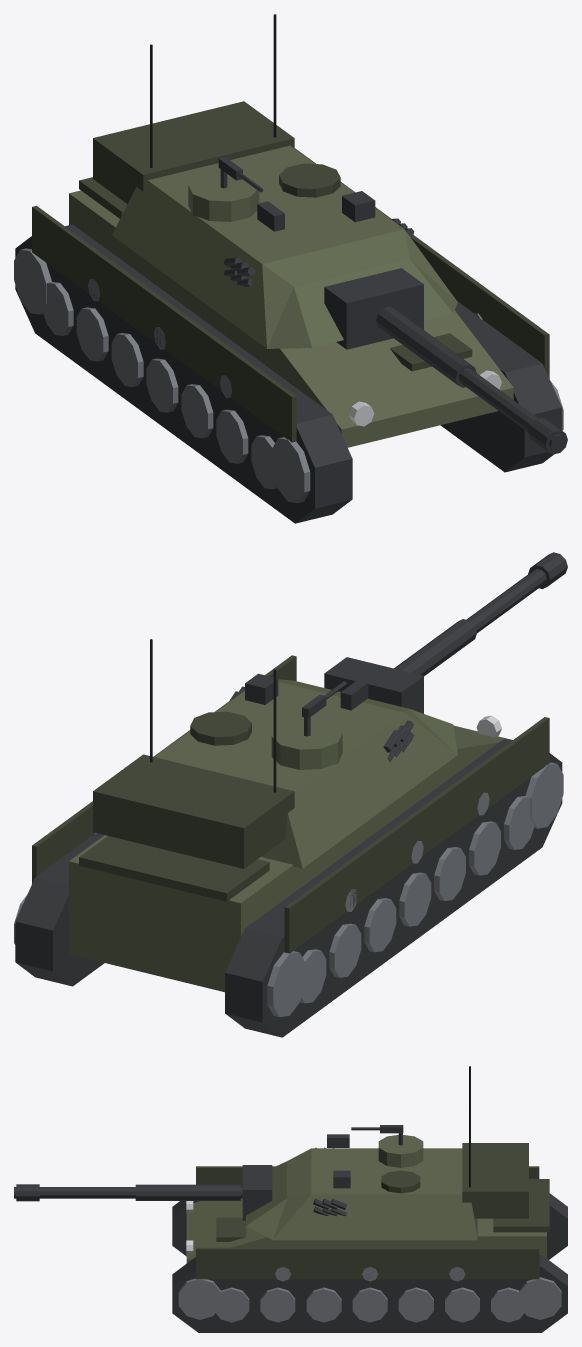
File: Unit_Tank.obj
3 renders of one model, top to bottom at view 1: azimuth 30°, elevation 25°; view 2: azimuth 150°, elevation 25°; view 3: azimuth 270°, elevation 25°, orthographic. The views are drawn at different scales.
Size of the model in its own units: 3.86 by 4.45 by 10.81.
